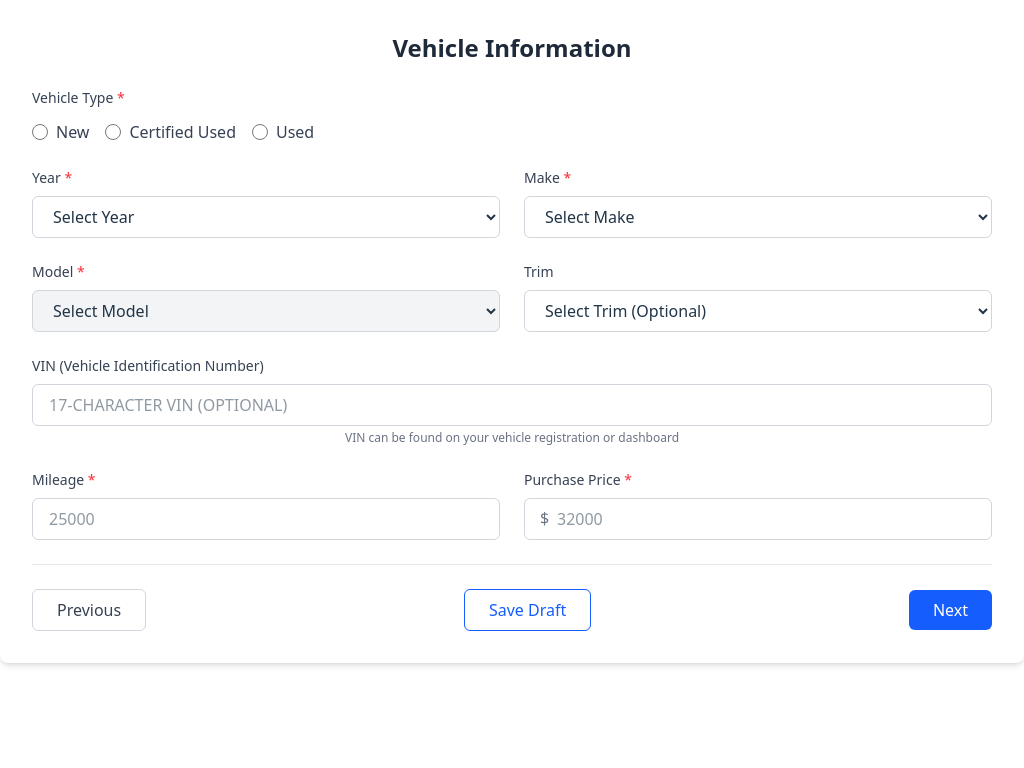
Test: VehicleInformation Component › Validation - VIN › should show error for VIN with invalid characters
Type "1HGBH41JXMN10918I" into the field labelled "VIN (Vehicle Identification Number)" at x=512, y=405, box [32, 384, 992, 426]
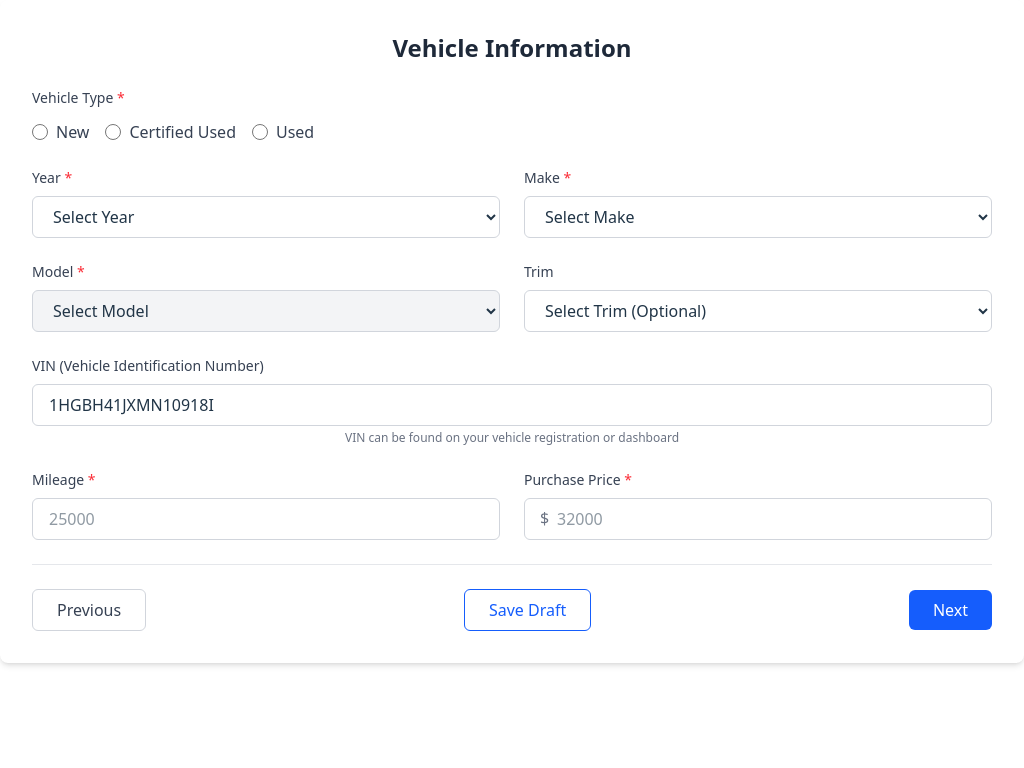
Leave the field labelled "VIN (Vehicle Identification Number)", box [32, 384, 992, 426]
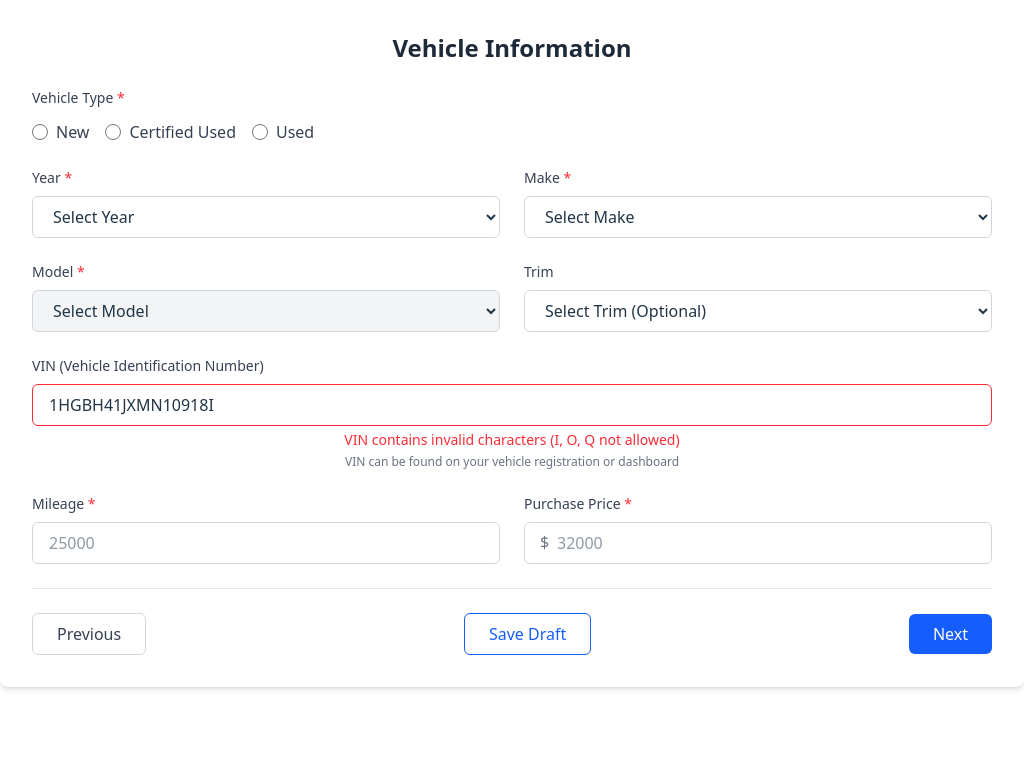
Check: the text "VIN contains invalid characters (I, O, Q not allowed)" is shown, box [344, 430, 680, 449]
